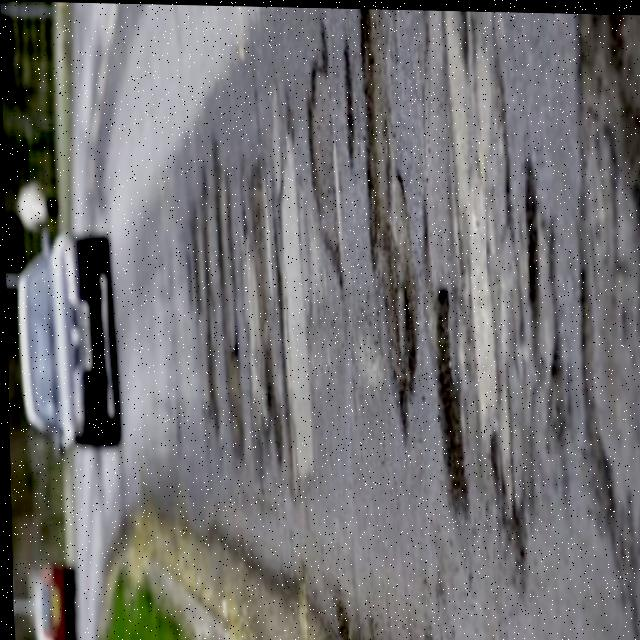Pothole: (347, 6, 418, 372), (240, 169, 301, 470), (555, 10, 640, 206), (571, 269, 619, 514), (510, 169, 564, 382), (423, 299, 474, 508), (297, 68, 344, 271)
